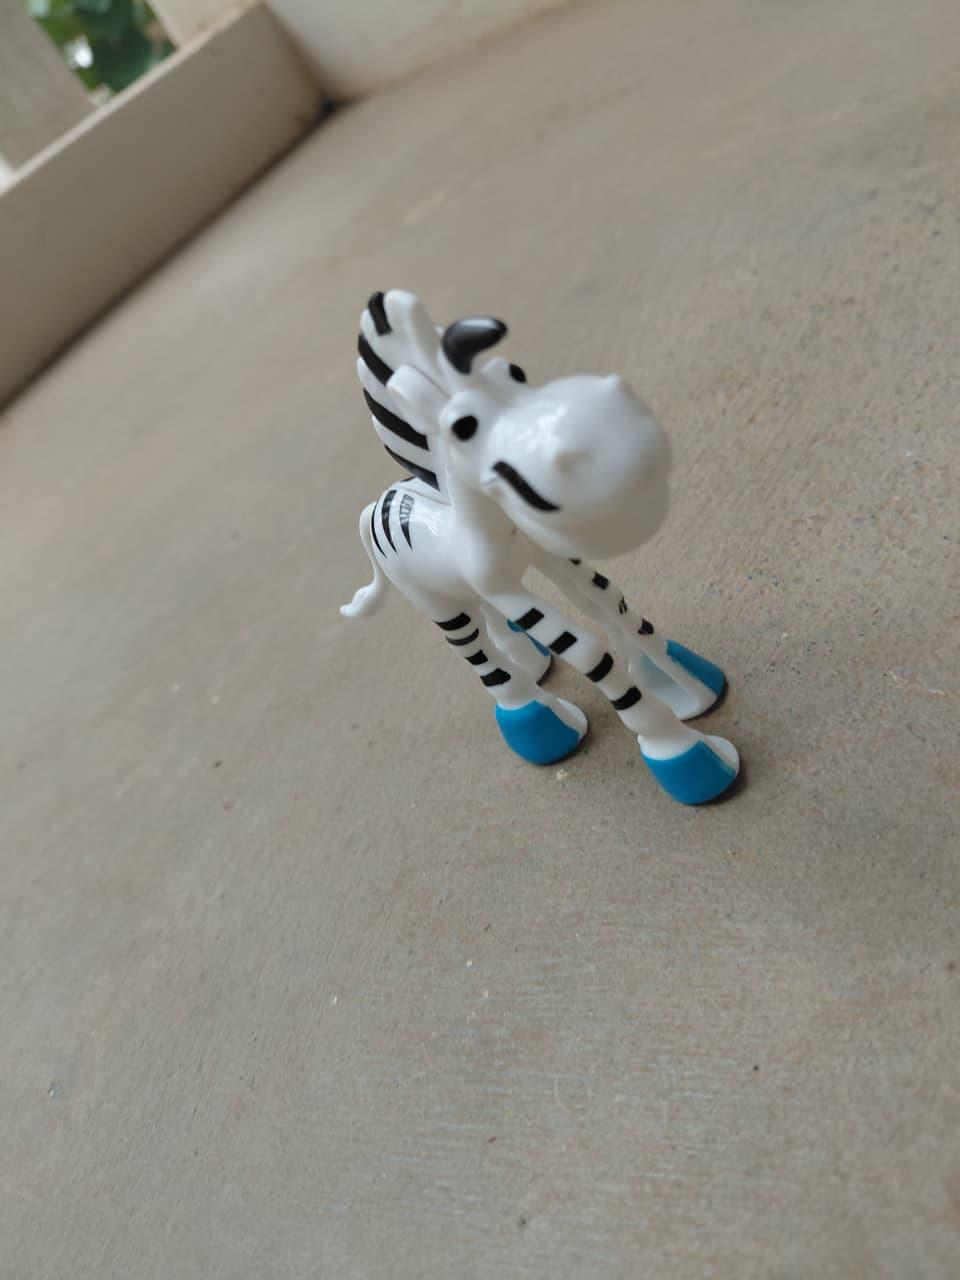zebra: (310, 251, 764, 835)
